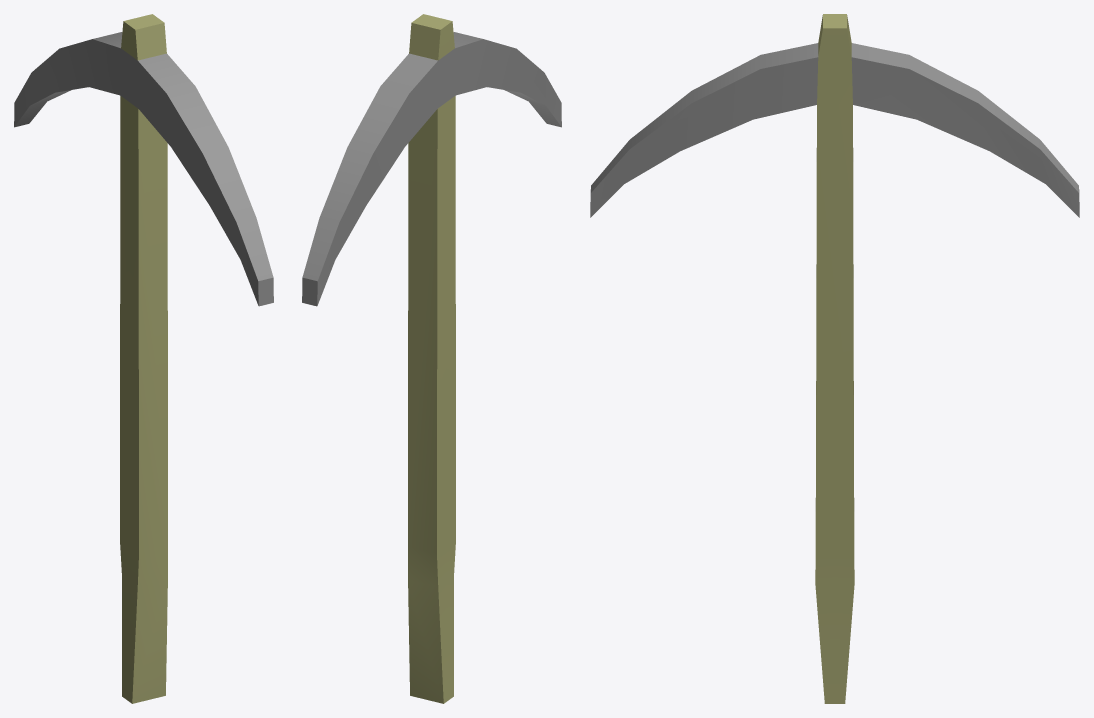
The model's file is pickaxe.FBX.
The picture shows the model from 3 angles, left to right: view 1: azimuth 30°, elevation 25°; view 2: azimuth 150°, elevation 25°; view 3: azimuth 270°, elevation 25°; orthographic projection.
Parts seen in each view (by area): view 1: sword001; view 2: sword001; view 3: sword001.
Part boxes in pixels (box(x1,y1,x2,y2)): sword001: box(14, 14, 273, 703); sword001: box(302, 14, 561, 703); sword001: box(590, 14, 1079, 703).
Bounding box in the file's own units: 6.85 × 131 × 86.21.
